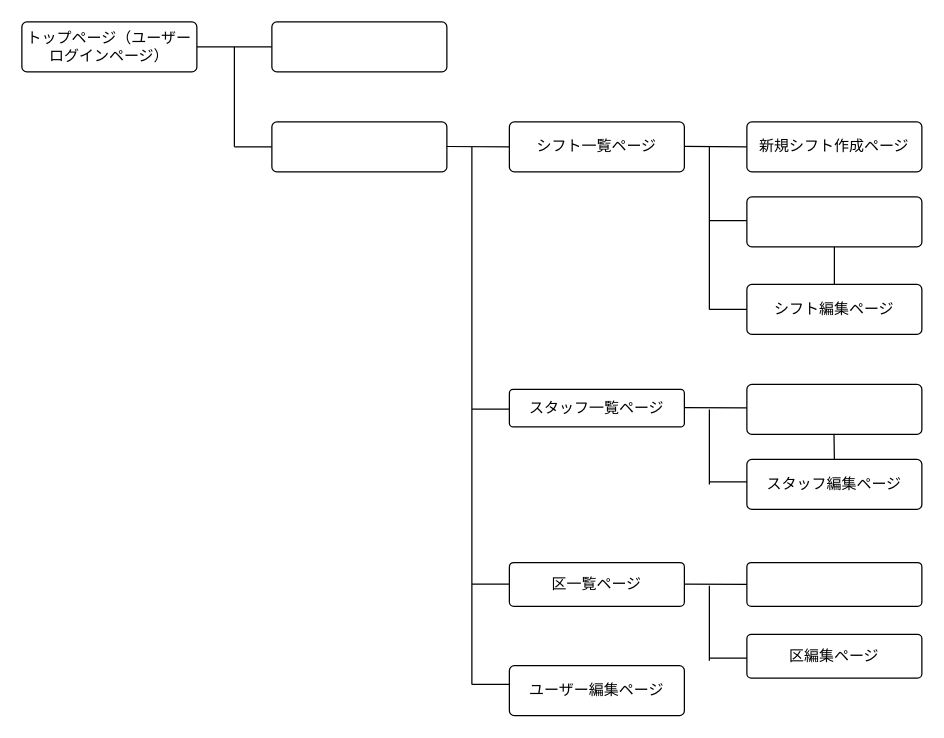
This 944x738 diagram has some shape labels left out. The centre of each missing label's shape, as x and y in pixels:
"シフト詳細ページ" belongs at pixel 834 221.
"スタッフ詳細ページ" belongs at pixel 834 408.
"ダッシュボード" belongs at pixel 359 146.
"ユーザー新規登録ページ" belongs at pixel 359 46.
"区登録ページ" belongs at pixel 834 583.
